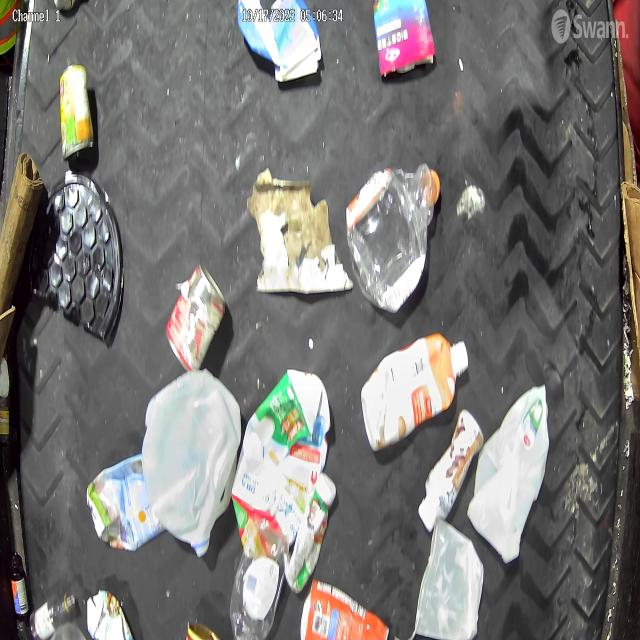can: (166, 263, 227, 371), (58, 63, 93, 161)
milk_jug: (142, 368, 242, 557), (473, 381, 551, 564)
non_white_jug: (231, 368, 332, 556), (362, 333, 467, 453)
plastic_bottle: (346, 161, 441, 311), (29, 592, 76, 640)
